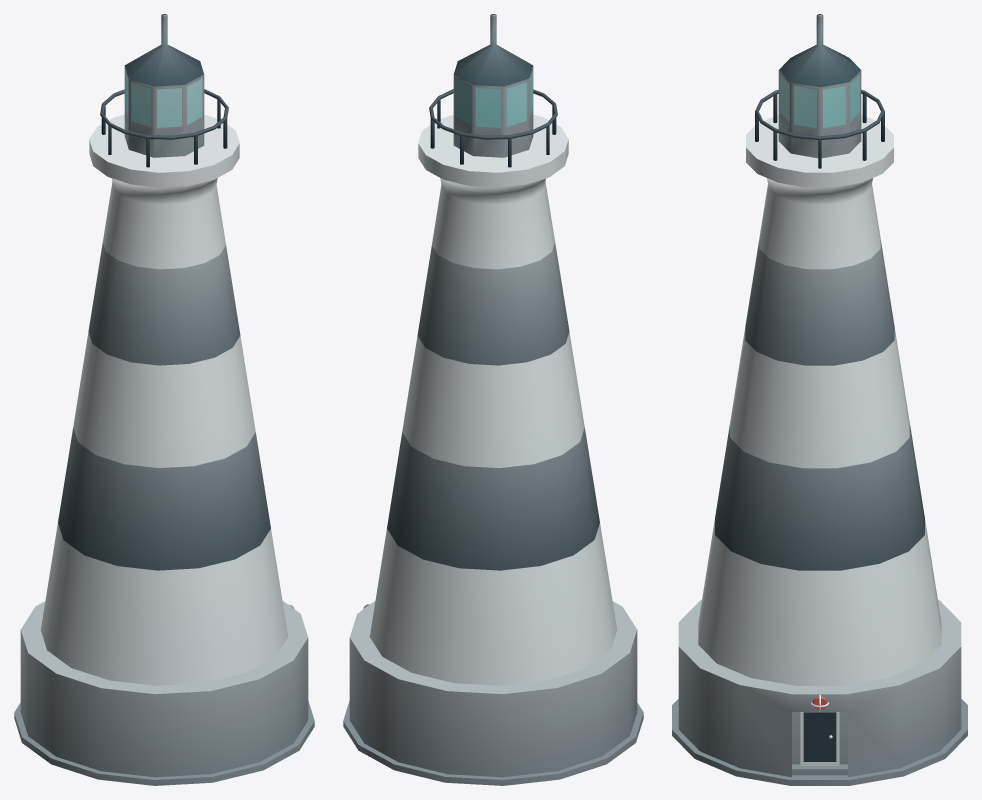
Rendered from Asset_BuildingFOff.glb.
3 renders of one model, left to right at view 1: azimuth 30°, elevation 25°; view 2: azimuth 150°, elevation 25°; view 3: azimuth 270°, elevation 25°, orthographic.
Parts seen in each view (by area): view 1: Mesh.040; view 2: Mesh.040; view 3: Mesh.040.
Boxes of the visible parts, x1,y1,x2,y2 form: Mesh.040: [14, 14, 314, 785]; Mesh.040: [343, 14, 643, 785]; Mesh.040: [672, 14, 967, 785].
Size of what is drawn, in the model's own units: 9.12 by 23.84 by 9.02.
1 material, 1 textured.
